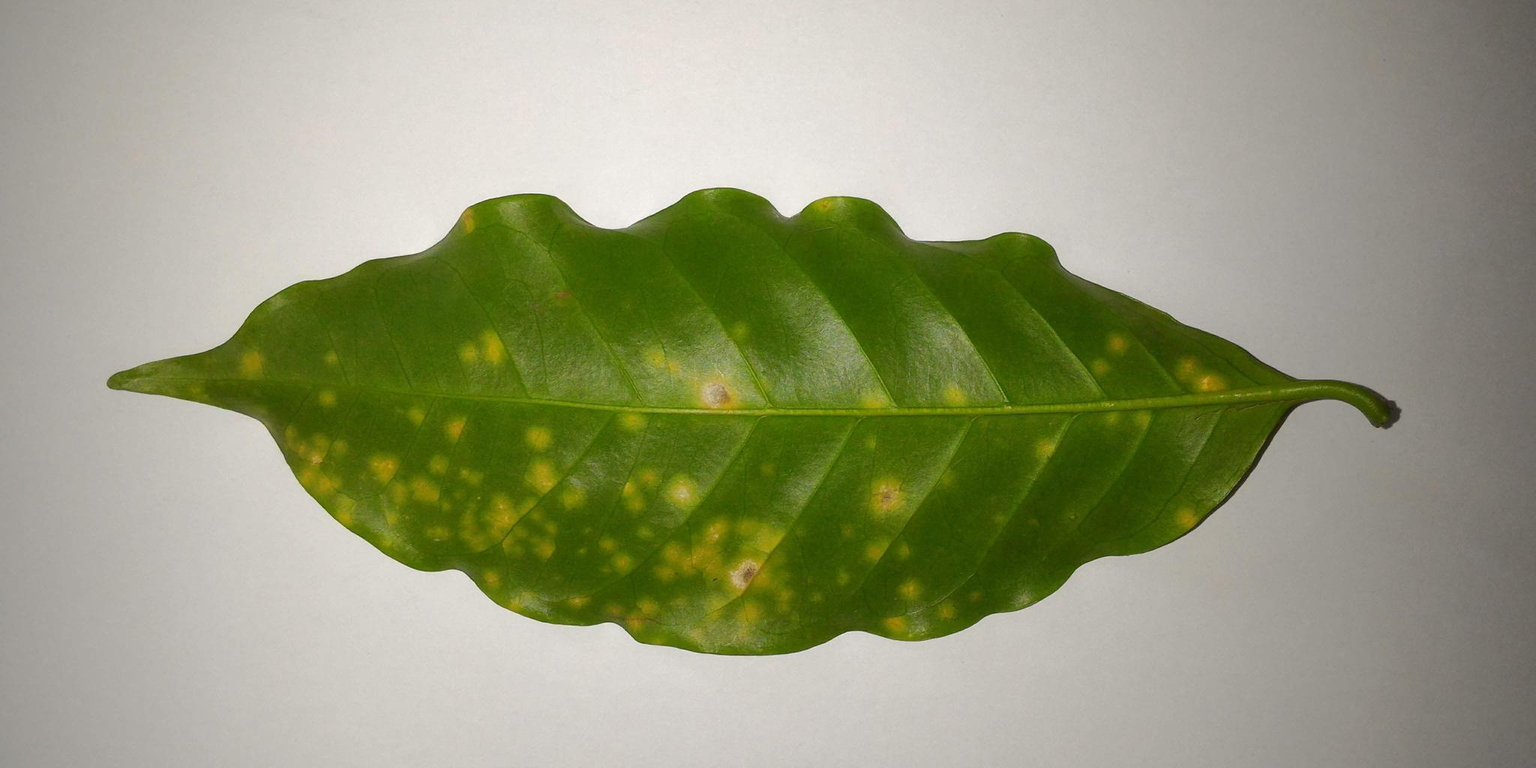Rust: (400, 404, 590, 615), (615, 459, 810, 657), (1078, 320, 1230, 434)
